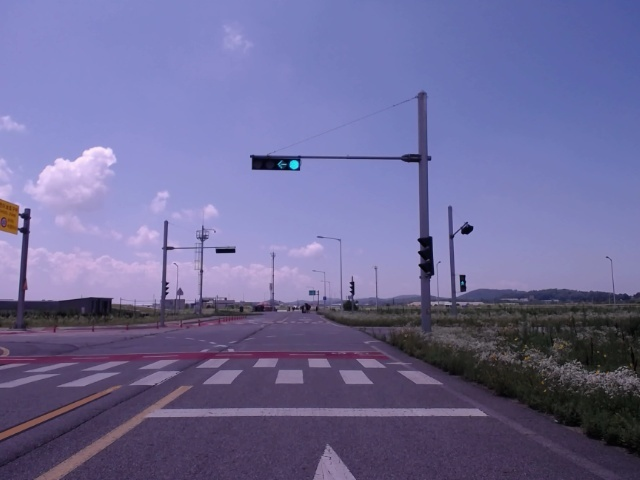all_green_4: (253, 154, 302, 172)
